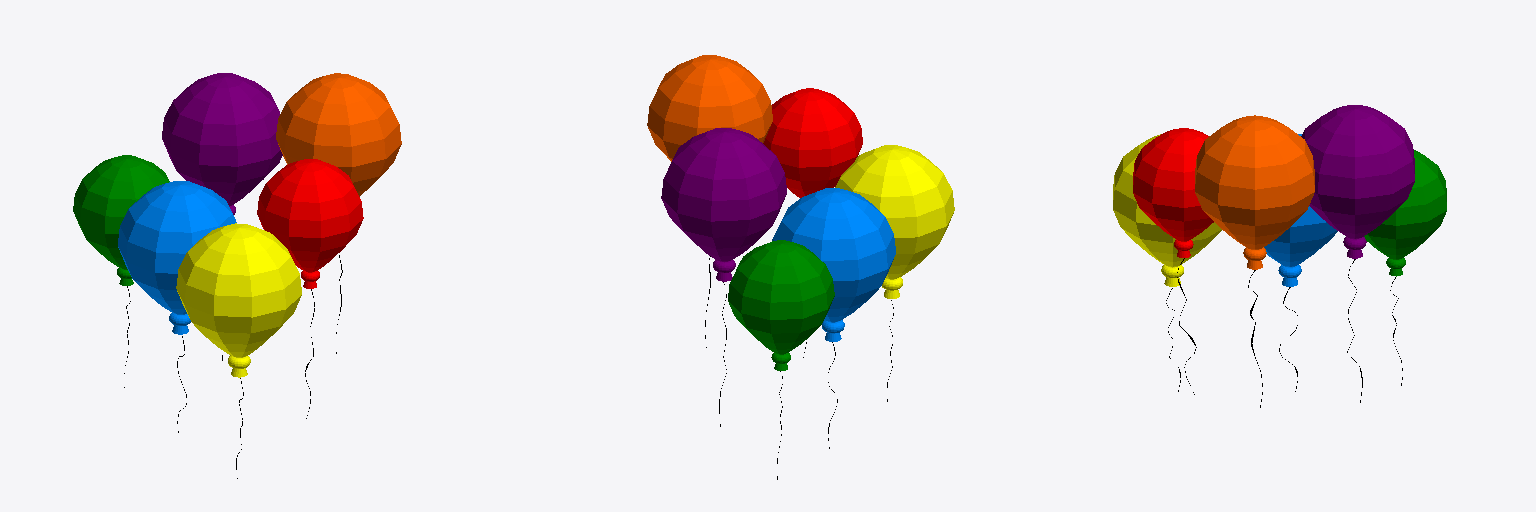
Rendered from globo.obj.
The picture shows the model from 3 angles: view 1: azimuth 30°, elevation 25°; view 2: azimuth 150°, elevation 25°; view 3: azimuth 270°, elevation 25°; orthographic projection.
Visible parts, largest first — view 1: polySurface3, polySurface5, polySurface7, polySurface2, polySurface6, polySurface4 group1; view 2: polySurface5, polySurface2, polySurface4 group1, polySurface3, polySurface7, polySurface6; view 3: polySurface7, polySurface5, polySurface6, polySurface4 group1, polySurface3, polySurface2.
Boxes of the visible parts, x1=… form: polySurface3: x1=176, y1=223, x2=301, y2=377; polySurface5: x1=162, y1=73, x2=282, y2=214; polySurface7: x1=276, y1=73, x2=401, y2=196; polySurface2: x1=118, y1=181, x2=236, y2=334; polySurface6: x1=257, y1=159, x2=363, y2=288; polySurface4 group1: x1=73, y1=155, x2=169, y2=285; polySurface5: x1=661, y1=128, x2=786, y2=281; polySurface2: x1=772, y1=188, x2=895, y2=341; polySurface4 group1: x1=728, y1=240, x2=834, y2=370; polySurface3: x1=835, y1=145, x2=954, y2=298; polySurface7: x1=647, y1=55, x2=772, y2=161; polySurface6: x1=763, y1=88, x2=862, y2=197; polySurface7: x1=1195, y1=115, x2=1314, y2=269; polySurface5: x1=1301, y1=105, x2=1414, y2=258; polySurface6: x1=1133, y1=128, x2=1213, y2=257; polySurface4 group1: x1=1364, y1=150, x2=1446, y2=276; polySurface3: x1=1113, y1=134, x2=1221, y2=286; polySurface2: x1=1264, y1=134, x2=1337, y2=286.
Bounding box in the file's own units: 11.42 × 14.83 × 13.23.